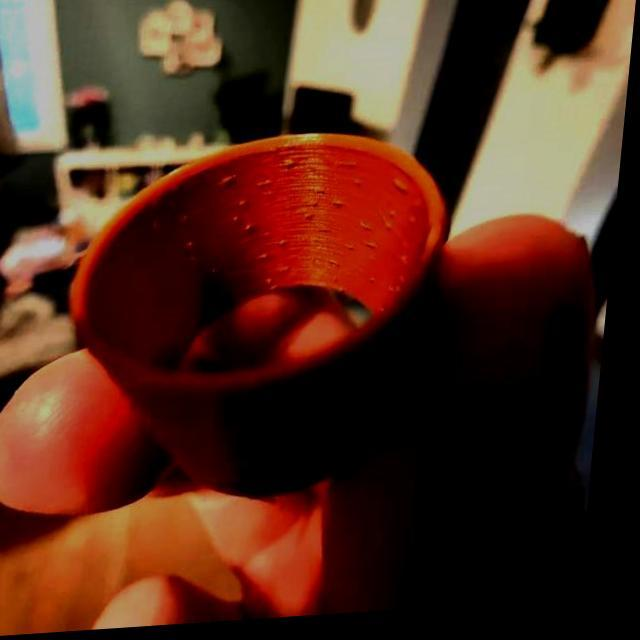zits: (391, 184, 412, 201), (238, 198, 255, 214), (222, 176, 240, 191), (388, 285, 404, 301), (277, 239, 293, 254), (312, 200, 328, 214), (286, 162, 303, 175), (389, 214, 404, 228), (152, 220, 166, 235), (187, 240, 202, 254), (182, 215, 198, 228), (306, 214, 320, 228), (354, 182, 370, 194), (267, 178, 280, 192), (368, 242, 382, 255), (336, 261, 350, 274), (235, 216, 248, 229), (246, 225, 258, 238), (261, 255, 275, 266), (335, 203, 348, 214), (374, 276, 385, 288), (268, 280, 281, 290), (320, 190, 332, 200), (388, 227, 401, 236)
